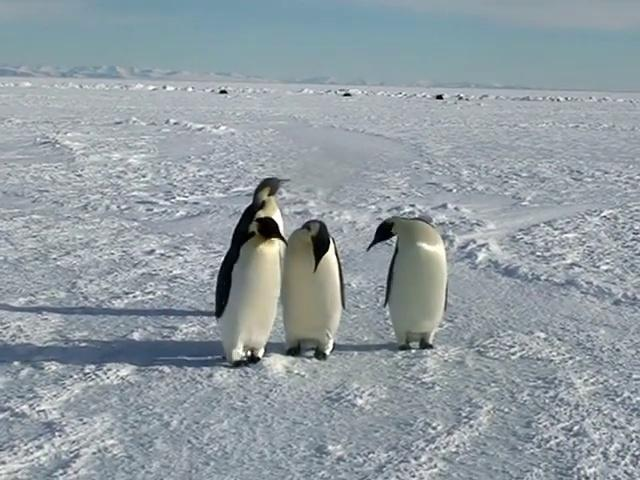animal: (367, 216, 447, 349)
